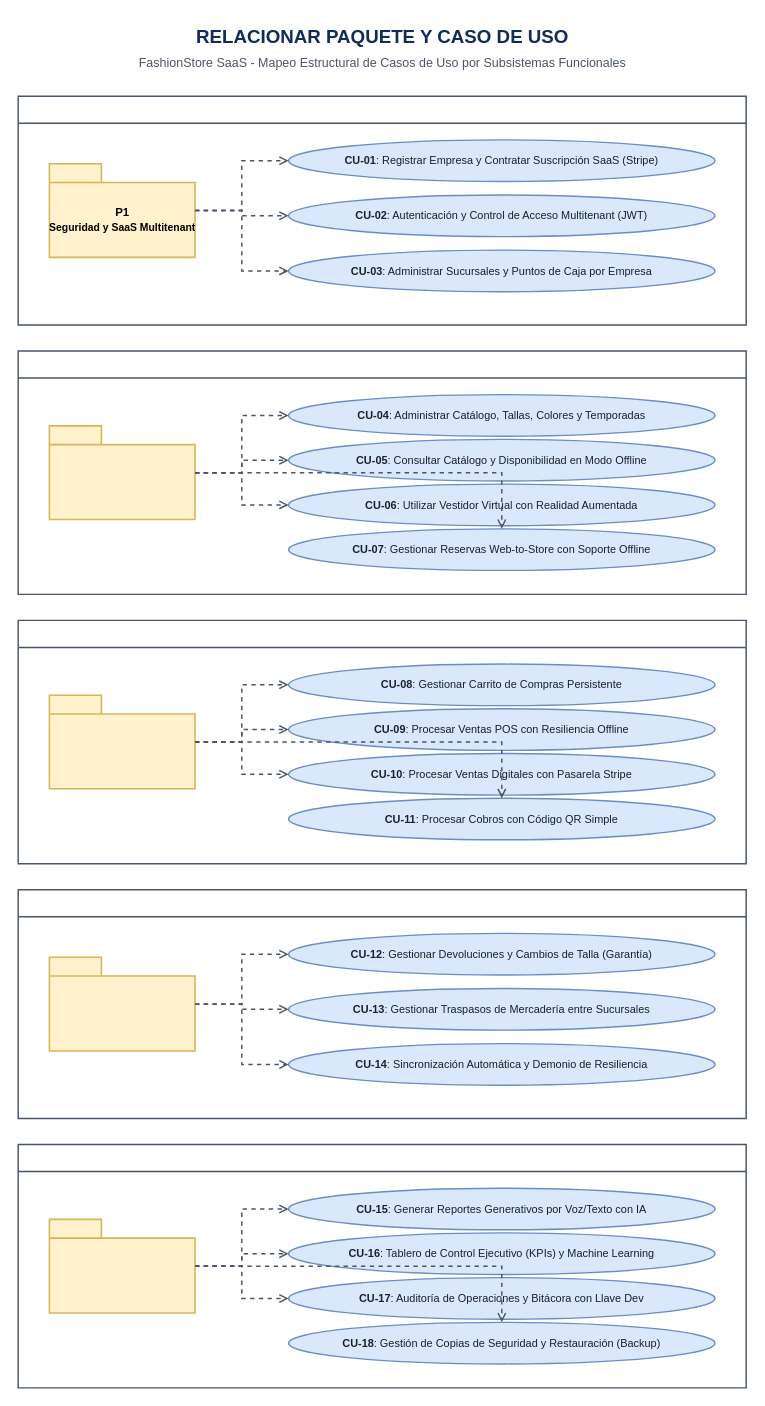
The diagram is 765 pixels wide and 1406 high, and some of its shapes have lost their labels. Each missing label, with the box of its shape:
P2 Catálogo Omnicanal y AR: (48, 425, 195, 520)
P3 Comercialización y Ventas POS: (48, 694, 195, 789)
P4 Logística y Resiliencia Offline: (48, 956, 195, 1051)
P5 Analítica Predictiva, IA y Mantenimiento: (48, 1218, 195, 1313)
Paquete 1: Seguridad y SaaS Multitenant: (17, 95, 746, 325)
Paquete 2: Catálogo Omnicanal y AR: (17, 350, 746, 595)
Paquete 3: Comercialización y Ventas POS: (17, 619, 746, 864)
Paquete 4: Logística y Resiliencia Offline: (17, 888, 746, 1119)
Paquete 5: Analítica Predictiva, IA y Mantenimiento: (17, 1143, 746, 1388)
